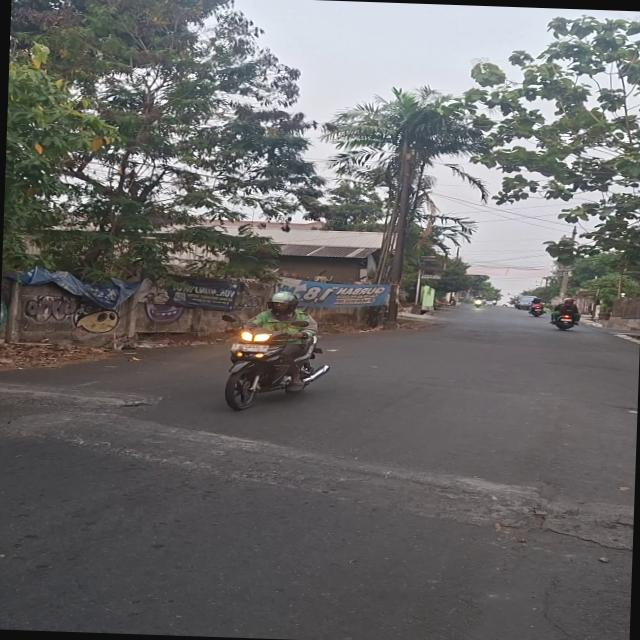WithHelmet: (225, 289, 321, 391), (549, 297, 581, 325), (527, 297, 547, 315)
